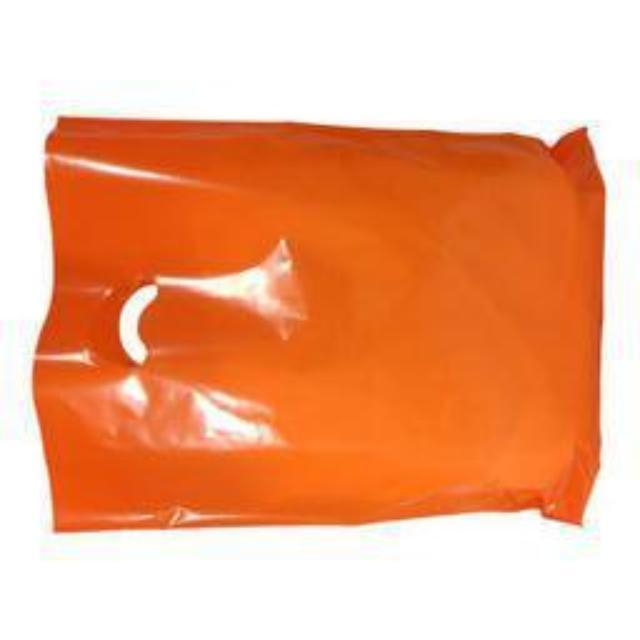Bolsa-de-nilon: (35, 115, 608, 535)
